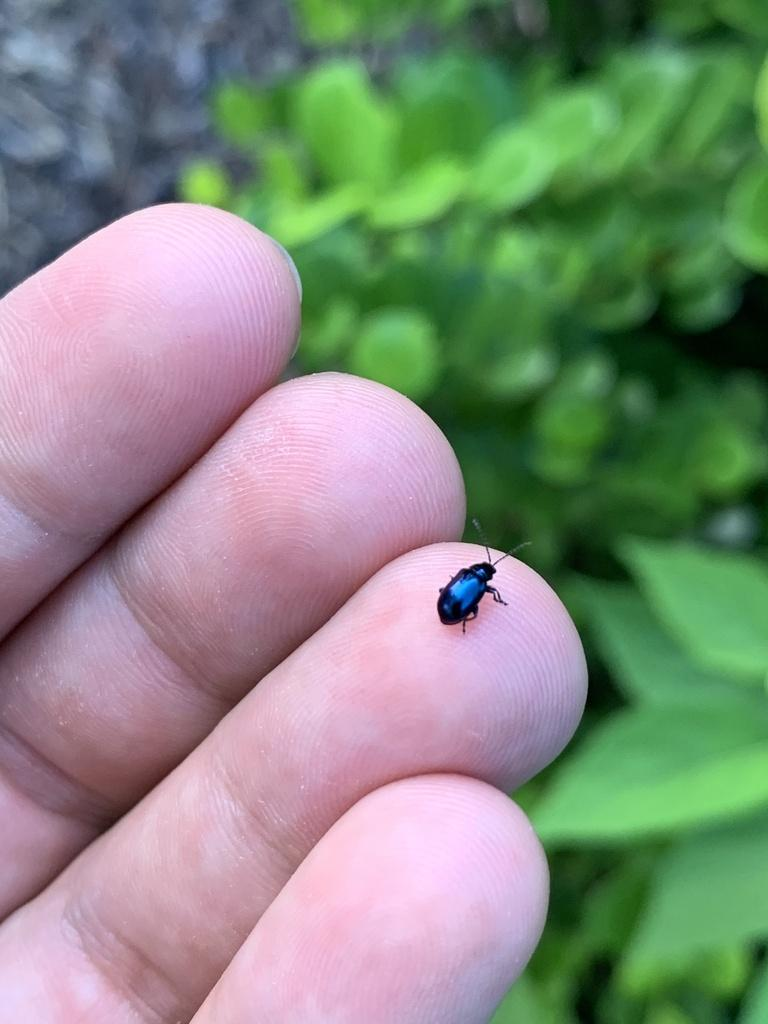flea_beetle: (406, 478, 553, 662)
